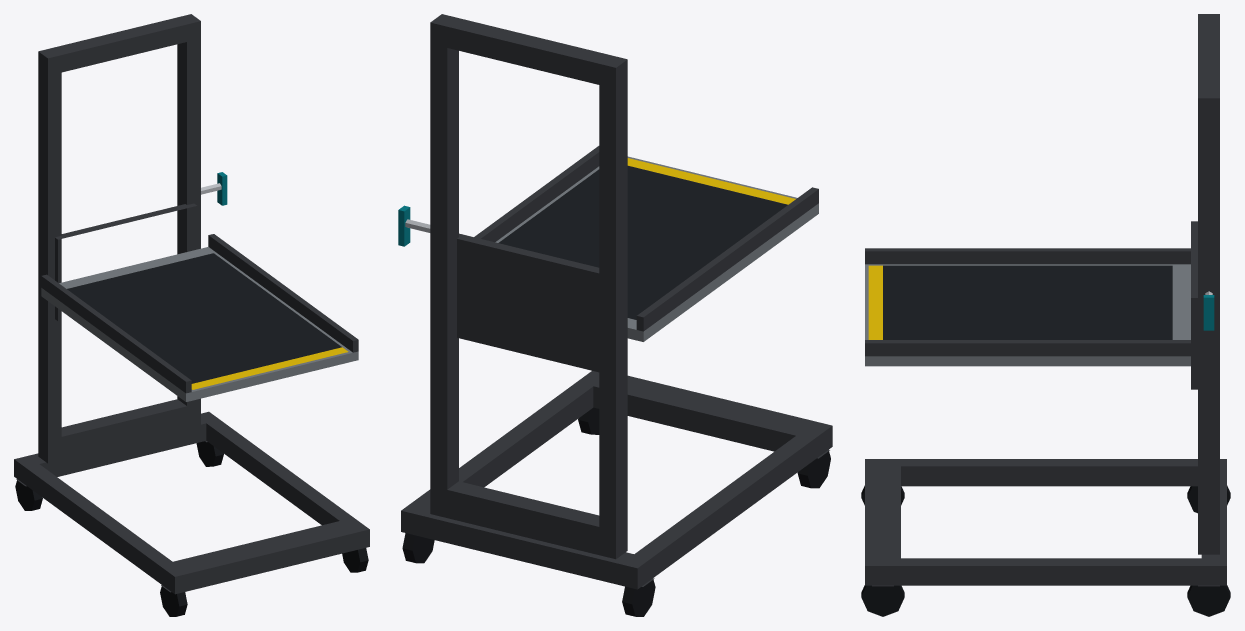
Rendered from Trolley_Server.glb.
3 views of the same model, side by side, from view 1: azimuth 30°, elevation 25°; view 2: azimuth 150°, elevation 25°; view 3: azimuth 270°, elevation 25° (orthographic). The views are drawn at different scales.
Parts seen in each view (by area): view 1: Trolley_Server, Trolley_Platform; view 2: Trolley_Server, Trolley_Platform; view 3: Trolley_Platform, Trolley_Server.
Part boxes in pixels (x1,y1,x2,y2): Trolley_Server: (14,14,369,616); Trolley_Platform: (41,203,358,401); Trolley_Server: (398,14,832,616); Trolley_Platform: (457,146,818,372); Trolley_Platform: (865,221,1197,389); Trolley_Server: (861,14,1230,616).
Size of what is drawn, in the model's own units: 0.733 by 1.55 by 1.02.
